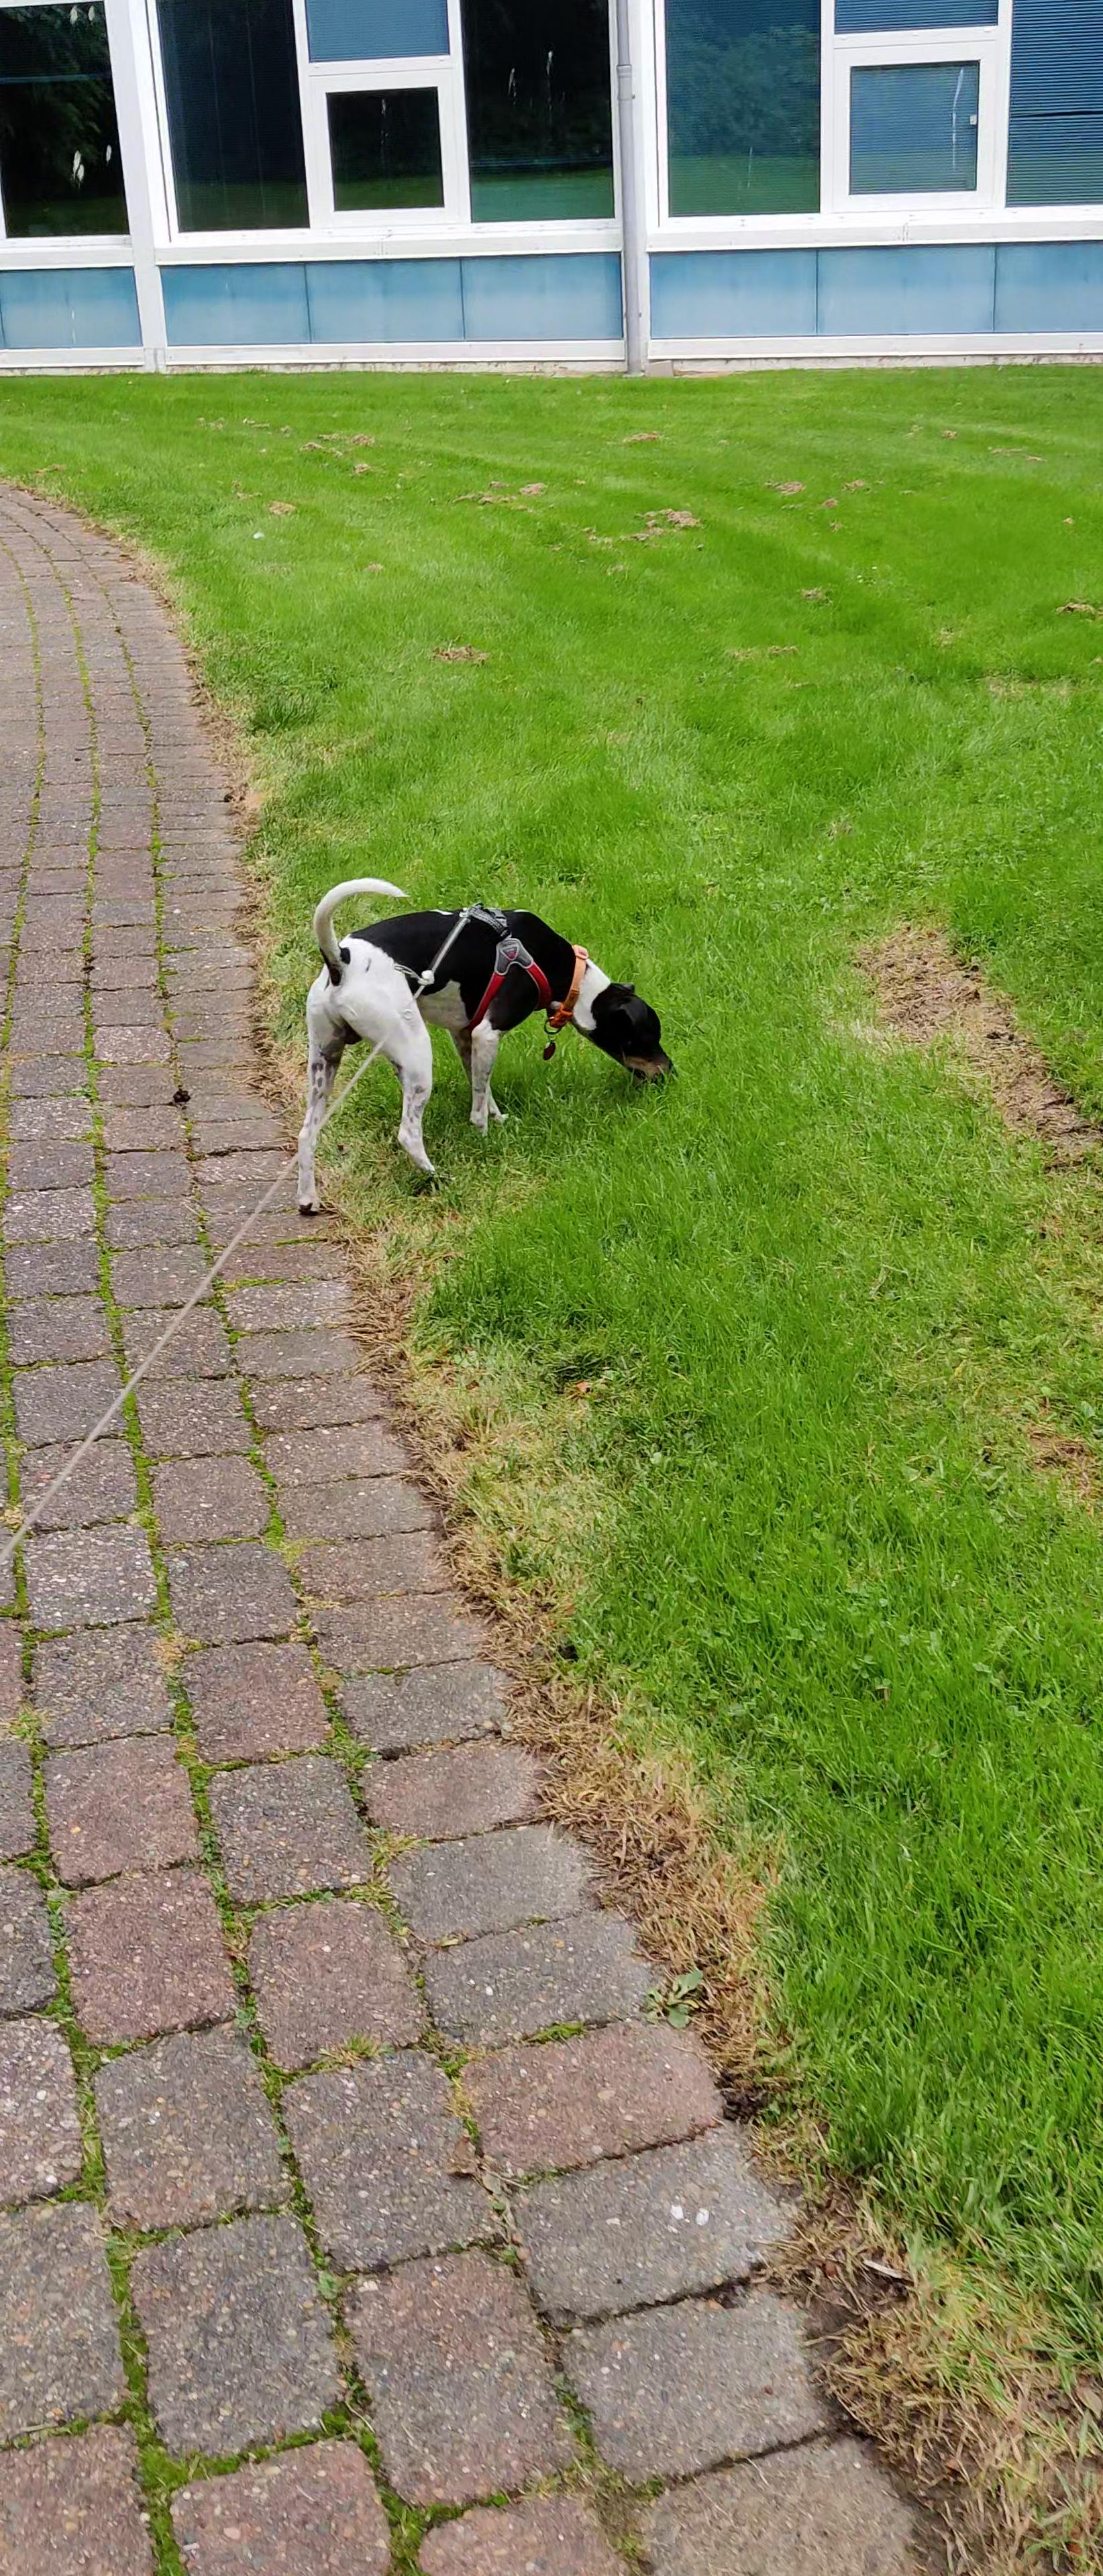Dog: (275, 867, 681, 1229)
